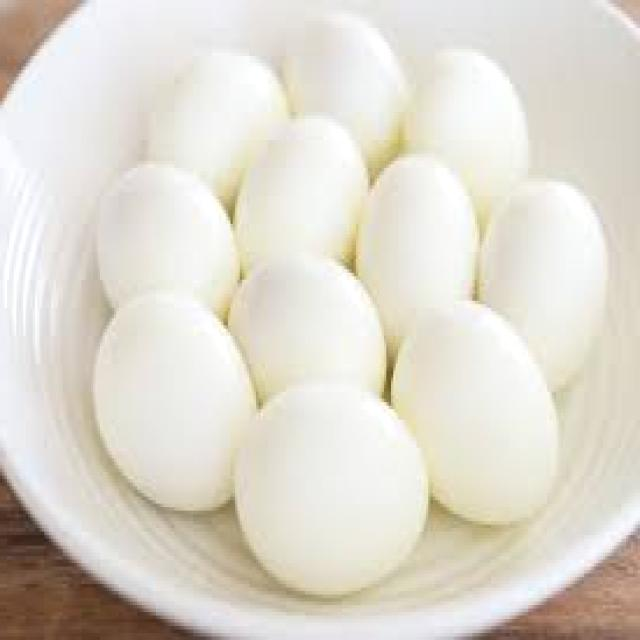telur rebus: (386, 301, 561, 528), (233, 395, 431, 584), (91, 297, 258, 511), (403, 49, 531, 301), (475, 178, 610, 409), (351, 154, 477, 374), (142, 49, 289, 224), (226, 252, 389, 409), (93, 161, 242, 329), (282, 14, 412, 189), (233, 115, 370, 269)
